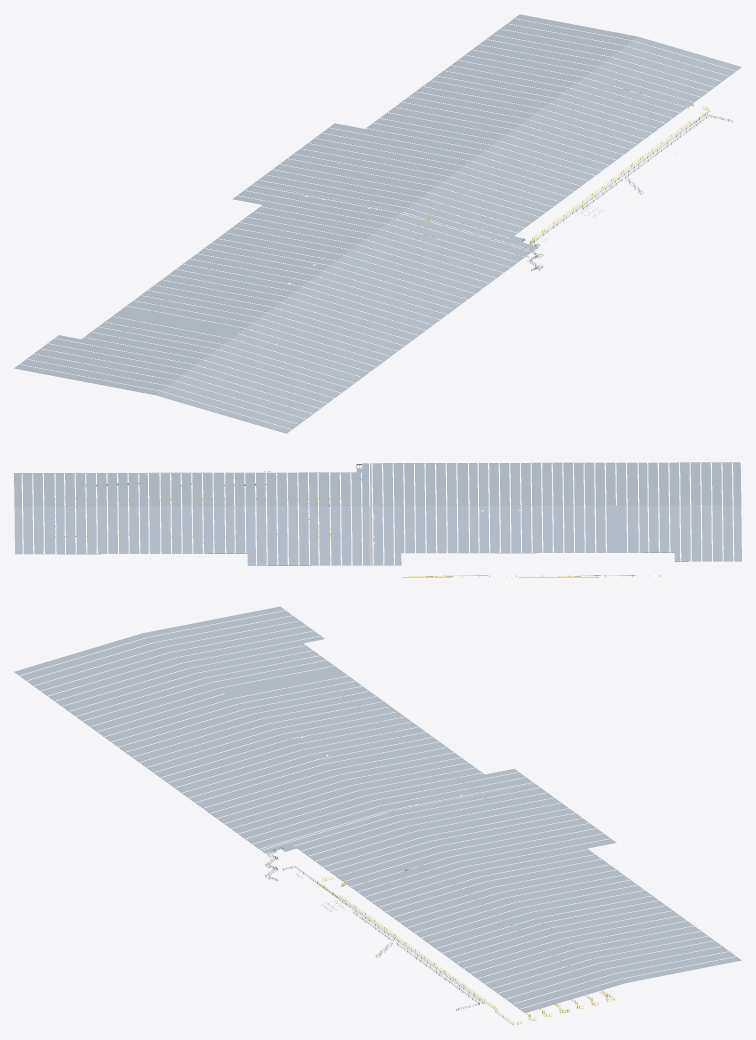
Rendered from pt-108-mantenimiento-mayor-hq-p18.glb.
3 renders of one model, top to bottom at view 1: azimuth 30°, elevation 25°; view 2: azimuth 150°, elevation 25°; view 3: azimuth 270°, elevation 25°, orthographic. The views are drawn at different scales.
Visible parts, largest first — view 1: 1$8VGVP9fFgh3GeqZH2JSV, 1$8VGVP9fFgh3GeqZH2I5Z; view 2: 1$8VGVP9fFgh3GeqZH2JSV, 1$8VGVP9fFgh3GeqZH2I5Z, 3RE5FMqT1Eav50ChEstCFo; view 3: 1$8VGVP9fFgh3GeqZH2JSV, 1$8VGVP9fFgh3GeqZH2I5Z.
Part boxes in pixels (x1,y1,x2,y2): 1$8VGVP9fFgh3GeqZH2JSV: (14,184,533,433); 1$8VGVP9fFgh3GeqZH2I5Z: (254,14,741,250); 1$8VGVP9fFgh3GeqZH2JSV: (370,462,741,565); 1$8VGVP9fFgh3GeqZH2I5Z: (14,463,369,565); 3RE5FMqT1Eav50ChEstCFo: (402,575,666,577); 1$8VGVP9fFgh3GeqZH2JSV: (14,606,533,849); 1$8VGVP9fFgh3GeqZH2I5Z: (261,784,741,1012).
Size of the model in its own units: 363 by 15.54 by 273.
